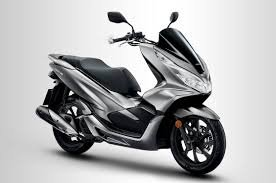motor: (35, 10, 229, 177)
